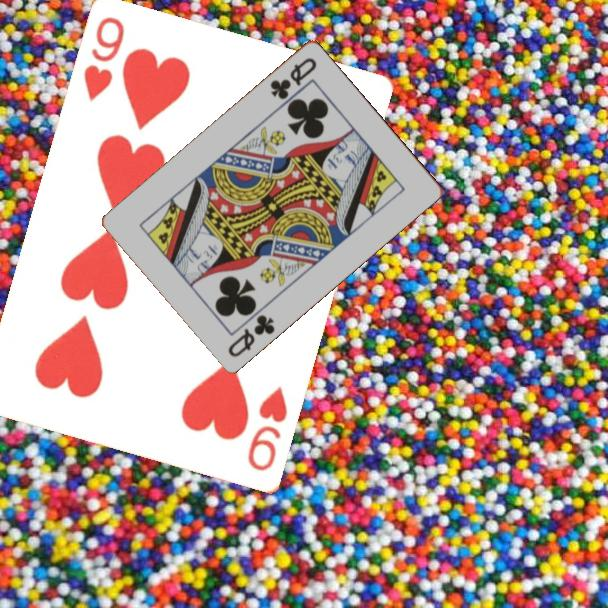c12: (224, 311, 278, 360), (267, 53, 320, 102)
h09: (80, 14, 128, 105), (244, 383, 291, 475)
